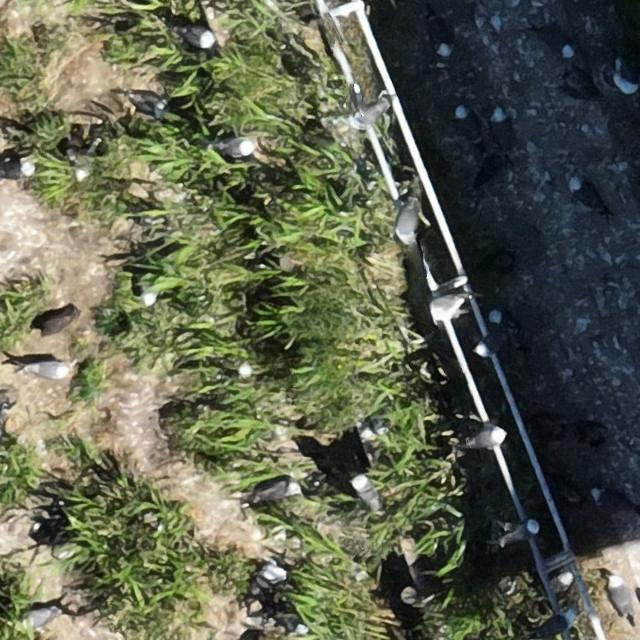umineko: (427, 274, 471, 322), (474, 314, 512, 362), (72, 129, 105, 184), (398, 194, 430, 249), (488, 102, 512, 164), (540, 25, 582, 60), (243, 566, 284, 600), (454, 104, 483, 152), (427, 17, 454, 64), (571, 178, 601, 212), (354, 476, 380, 509), (613, 59, 638, 93), (254, 479, 297, 498), (216, 136, 256, 156), (610, 576, 631, 614), (129, 92, 163, 114), (181, 26, 215, 47), (502, 521, 536, 542), (29, 362, 70, 379), (469, 429, 502, 448), (228, 357, 255, 380), (353, 106, 384, 126), (27, 608, 58, 627), (2, 161, 35, 178), (139, 283, 159, 307), (553, 572, 572, 592)
